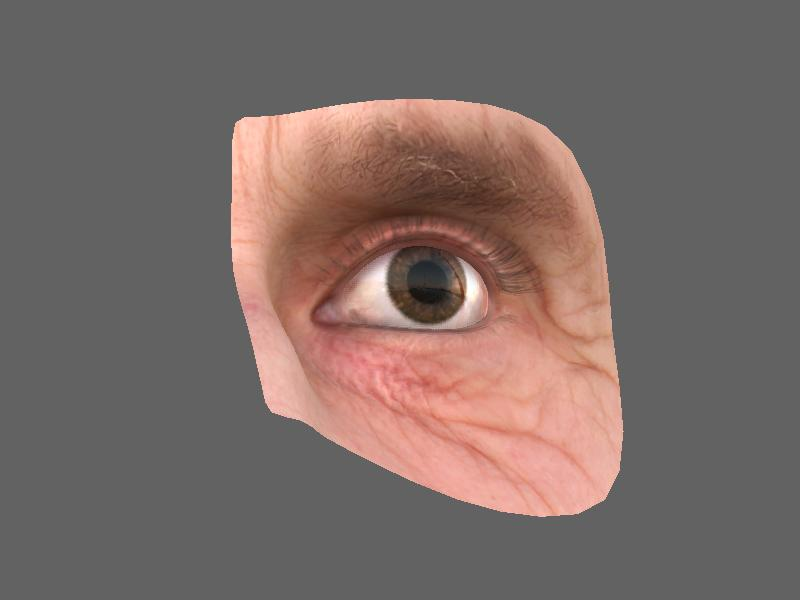iris: (392, 250, 472, 324)
